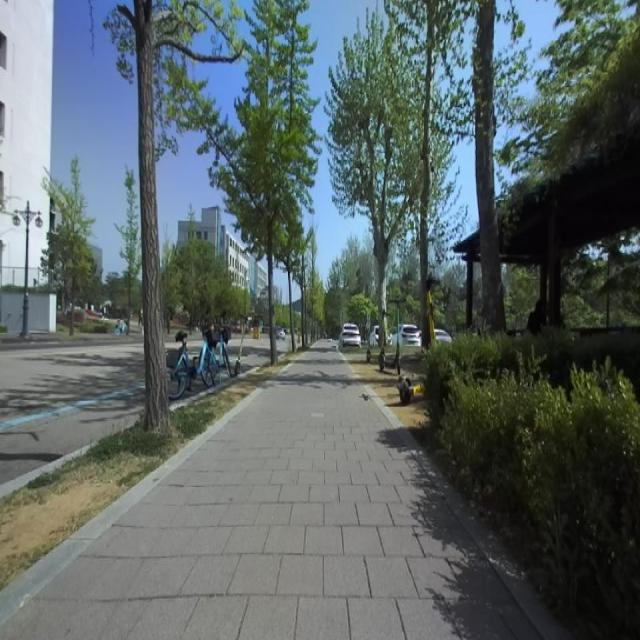sidewalk: (0, 340, 540, 639)
